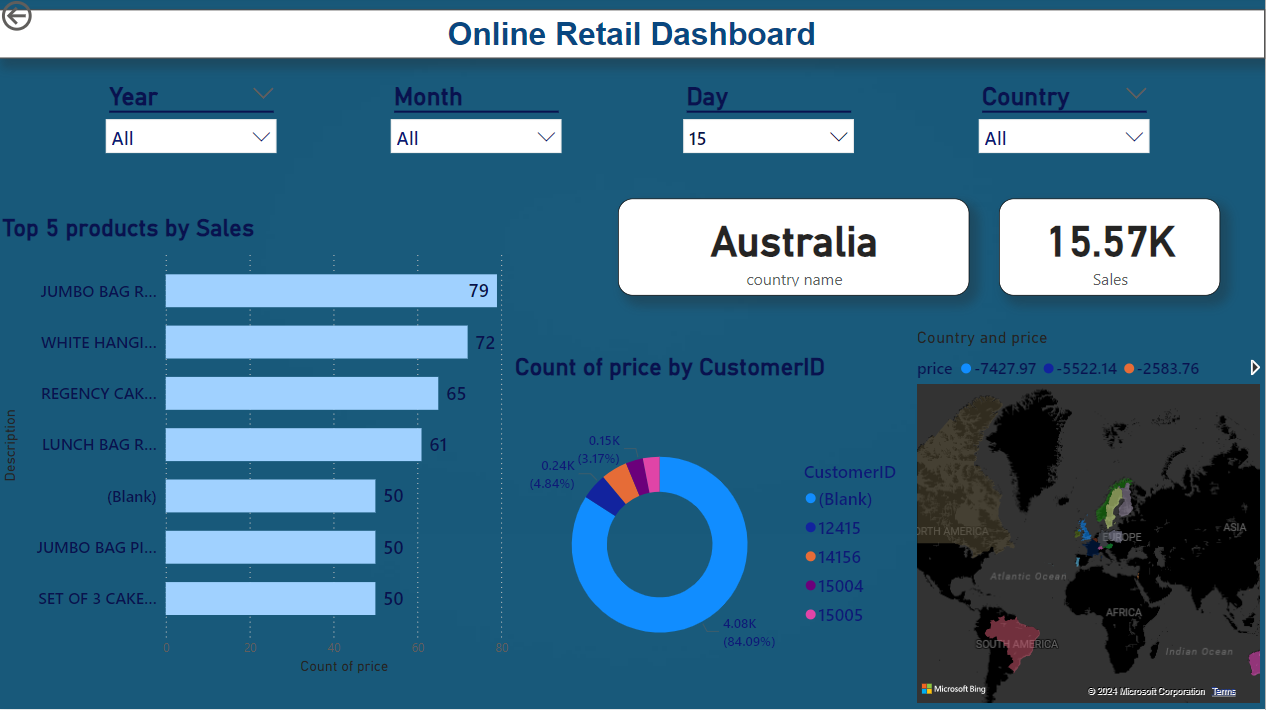

The dashboard page shown, as its layout file describes it:
{"tool":"powerbi","page":{"name":"Page 1","canvas":[1280,720],"ordinal":0},"visuals":[{"type":"slicer","fields":{"Values":["Online Retail.InvoiceDate.Variation.Date Hierarchy.Year"]},"box":[99.7,81.3,192.1,85],"z":0},{"type":"slicer","fields":{"Values":["Online Retail.InvoiceDate.Variation.Date Hierarchy.Month"]},"box":[387.9,81.3,192.1,85],"z":1000},{"type":"slicer","fields":{"Values":["Online Retail.Country"]},"box":[980.8,81.3,192.1,85],"z":2000},{"type":"card","fields":{"Values":["Min(Online Retail.Country)"]},"box":[626.1,205,354.6,97.9],"z":3000},{"type":"textbox","box":[0,13.2,1280,49.1],"z":4000},{"type":"card","fields":{"Values":["CountNonNull(Online Retail.price)"]},"box":[1012.2,205,223.5,97.9],"z":5000},{"type":"donutChart","fields":{"Category":["Online Retail.CustomerID"],"Y":["CountNonNull(Online Retail.price)"]},"box":[504.2,360.2,419.3,358.3],"z":6000},{"type":"filledMap","fields":{"Category":["Online Retail.Country"],"Series":["Online Retail.price"]},"box":[923.5,334.3,356.5,384.2],"z":7000},{"type":"clusteredBarChart","title":"Top 5 products by Sales","fields":{"Category":["Online Retail.Description"],"Y":["CountNonNull(Online Retail.price)"]},"box":[0,219.8,543,469.1],"z":8000},{"type":"actionButton","box":[0,0,100,40],"z":9000},{"type":"slicer","fields":{"Values":["Online Retail.InvoiceDate.Variation.Date Hierarchy.Day"]},"box":[683.4,81.3,192.1,83.1],"z":10000}]}

Visuals, with their boxes in screenshot pixels (x1, y1, x2, y2), scaled from the page's 1280x720 canvas onto the 1266x710 screenshot:
slicer - Online Retail.InvoiceDate.Variation.Date Hierarchy.Year: region(99, 80, 289, 164)
slicer - Online Retail.InvoiceDate.Variation.Date Hierarchy.Month: region(384, 80, 574, 164)
slicer - Online Retail.Country: region(970, 80, 1160, 164)
card - Min(Online Retail.Country): region(619, 202, 970, 299)
textbox: region(0, 13, 1265, 61)
card - CountNonNull(Online Retail.price): region(1001, 202, 1222, 299)
donutChart - Online Retail.CustomerID x CountNonNull(Online Retail.price): region(499, 355, 913, 709)
filledMap - Online Retail.Country x Online Retail.price: region(913, 330, 1265, 709)
"Top 5 products by Sales" clusteredBarChart: region(0, 217, 537, 679)
actionButton: region(0, 0, 99, 39)
slicer - Online Retail.InvoiceDate.Variation.Date Hierarchy.Day: region(676, 80, 866, 162)
